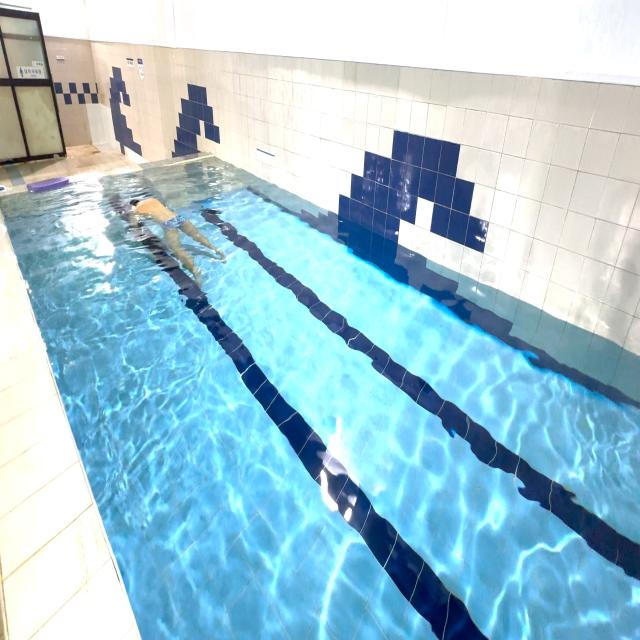Drowning: (121, 184, 228, 299)
